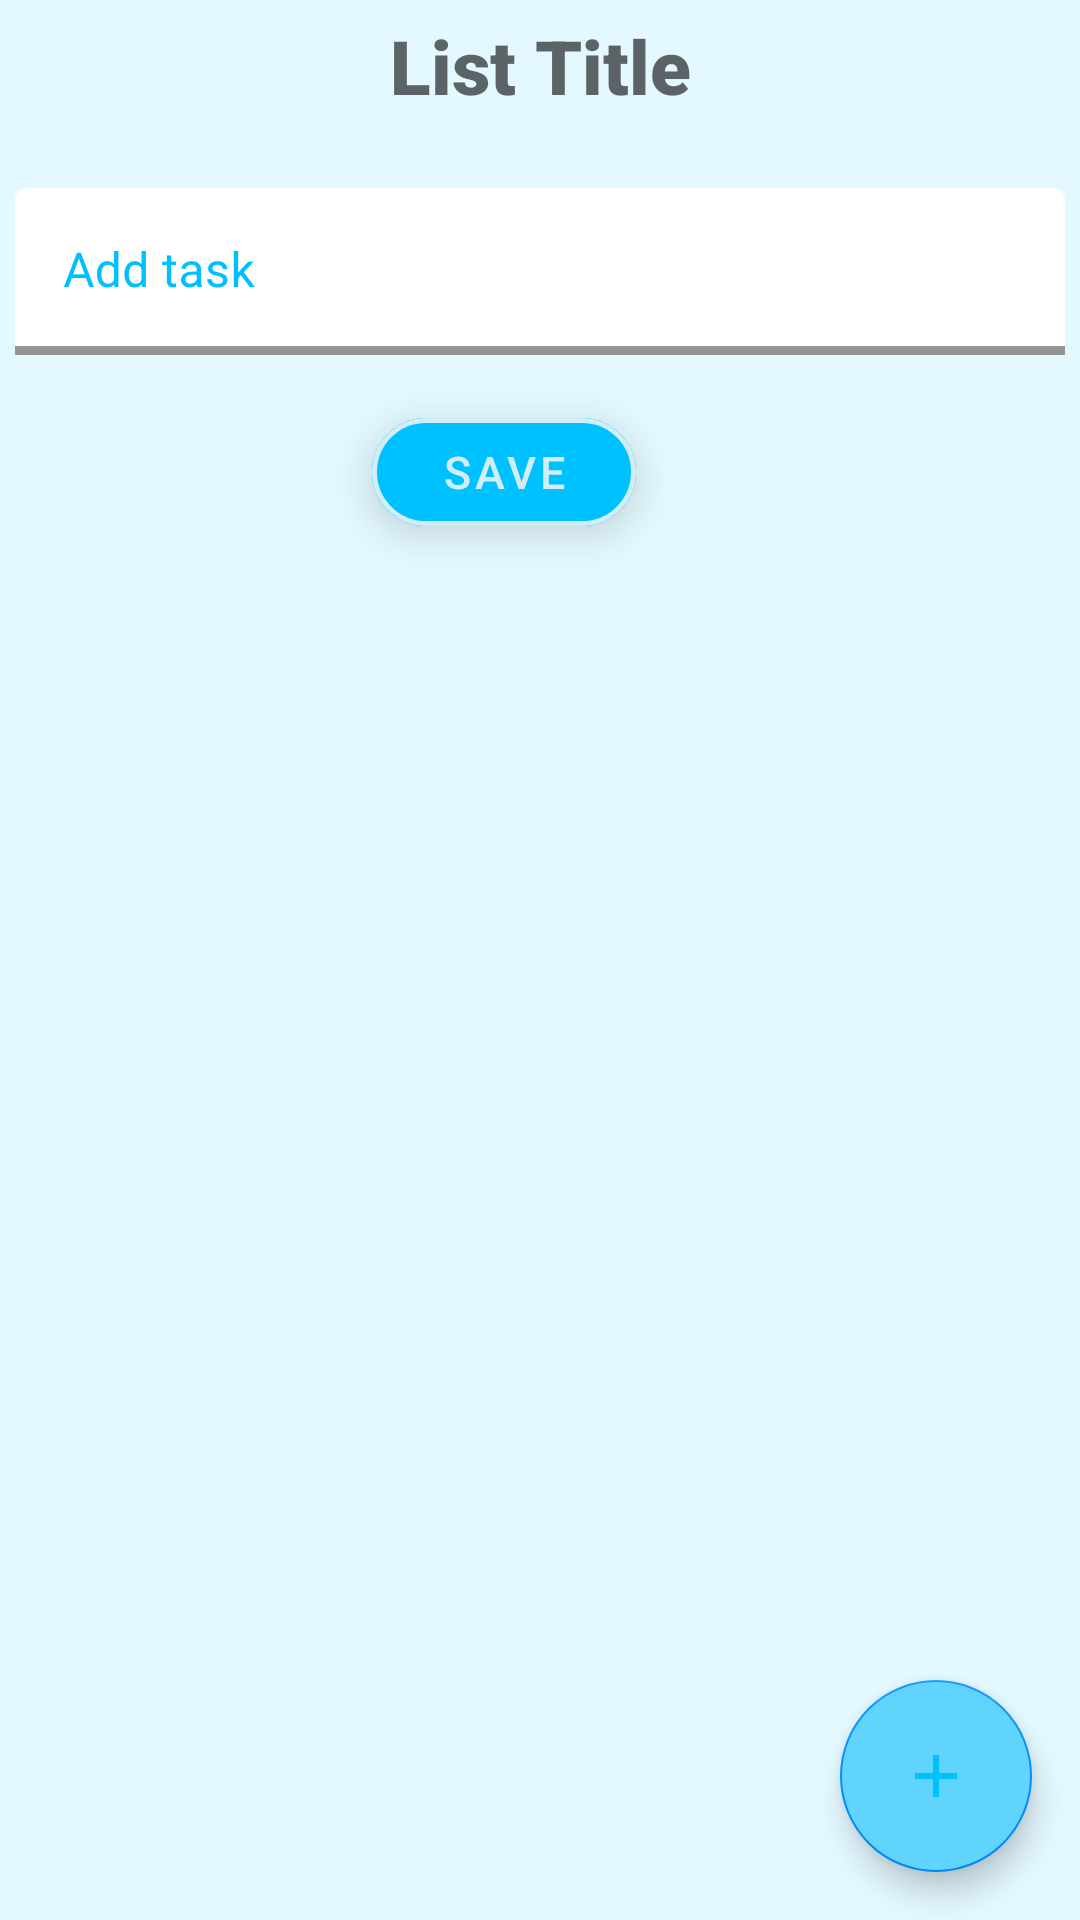

Icons on this 1080px x 1920px Android screen, each with its box as (x1, y1, x2, y2):
Add Task: (840, 1680, 1032, 1872)
